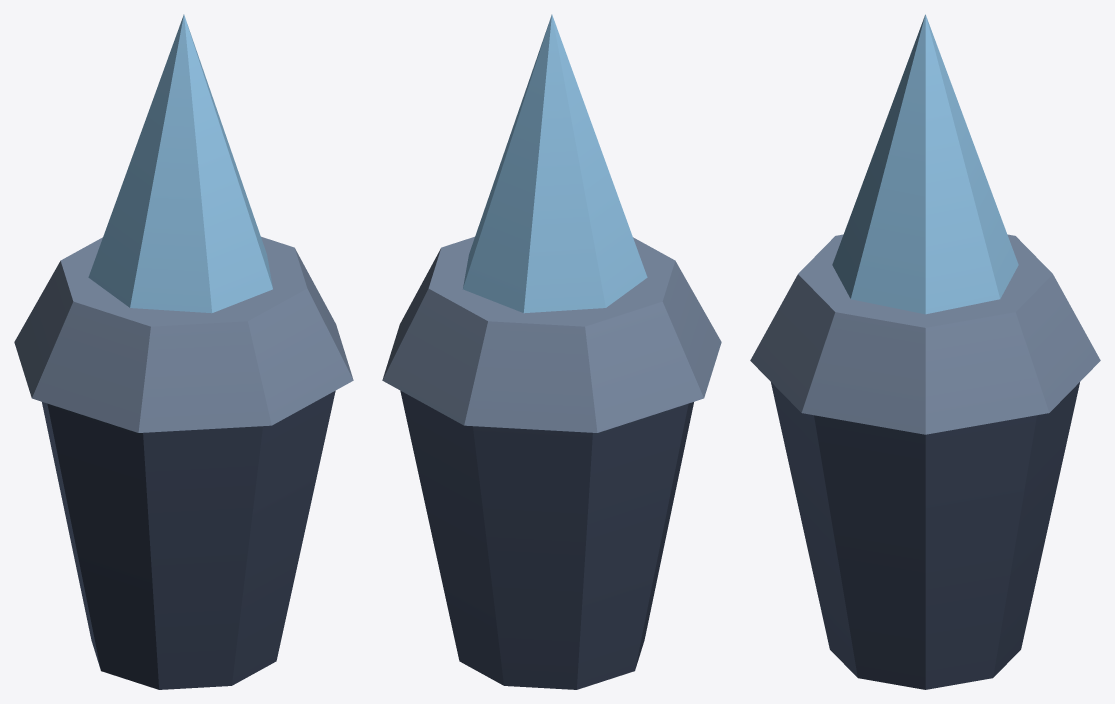
The model's file is coldfire_brazier.glb.
3 views of the same model, side by side, from view 1: azimuth 30°, elevation 25°; view 2: azimuth 150°, elevation 25°; view 3: azimuth 270°, elevation 25° (orthographic).
Visible parts, largest first — view 1: coldfire_brazier; view 2: coldfire_brazier; view 3: coldfire_brazier.
Boxes of the visible parts, bbox=[...] form: coldfire_brazier: bbox=[14, 14, 353, 689]; coldfire_brazier: bbox=[382, 14, 721, 689]; coldfire_brazier: bbox=[750, 14, 1100, 689].
Bounding box in the file's own units: 1.1 × 2.2 × 1.1.
